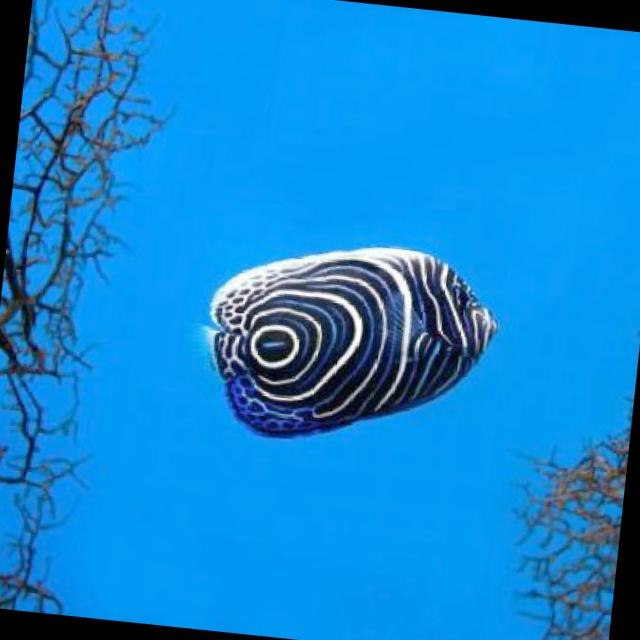AngelFish: (204, 228, 506, 456)
